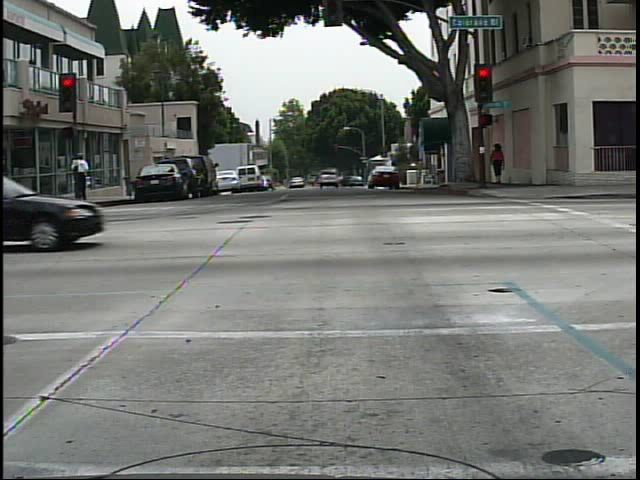person: (66, 147, 95, 205), (486, 137, 515, 191)
